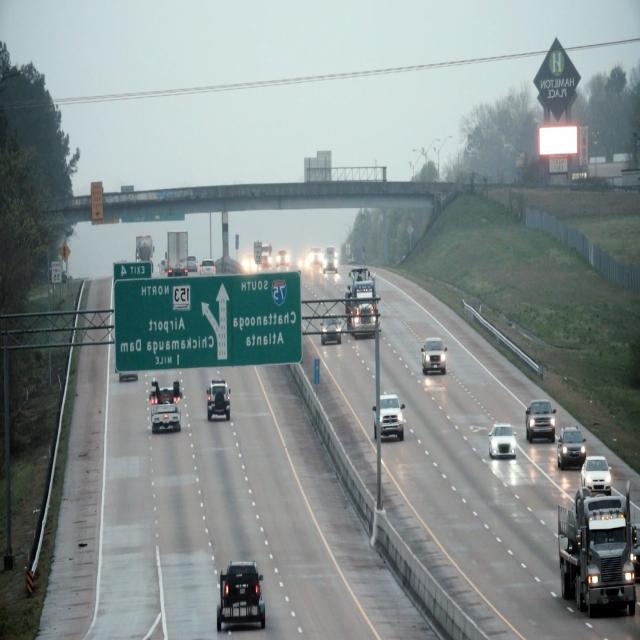Car: (557, 487, 633, 611), (216, 556, 261, 631), (346, 266, 377, 338), (148, 380, 184, 440), (371, 392, 407, 445), (580, 450, 612, 498), (525, 396, 555, 444), (204, 376, 233, 425), (556, 423, 584, 470), (488, 421, 516, 460), (420, 337, 448, 376), (319, 308, 342, 350)
